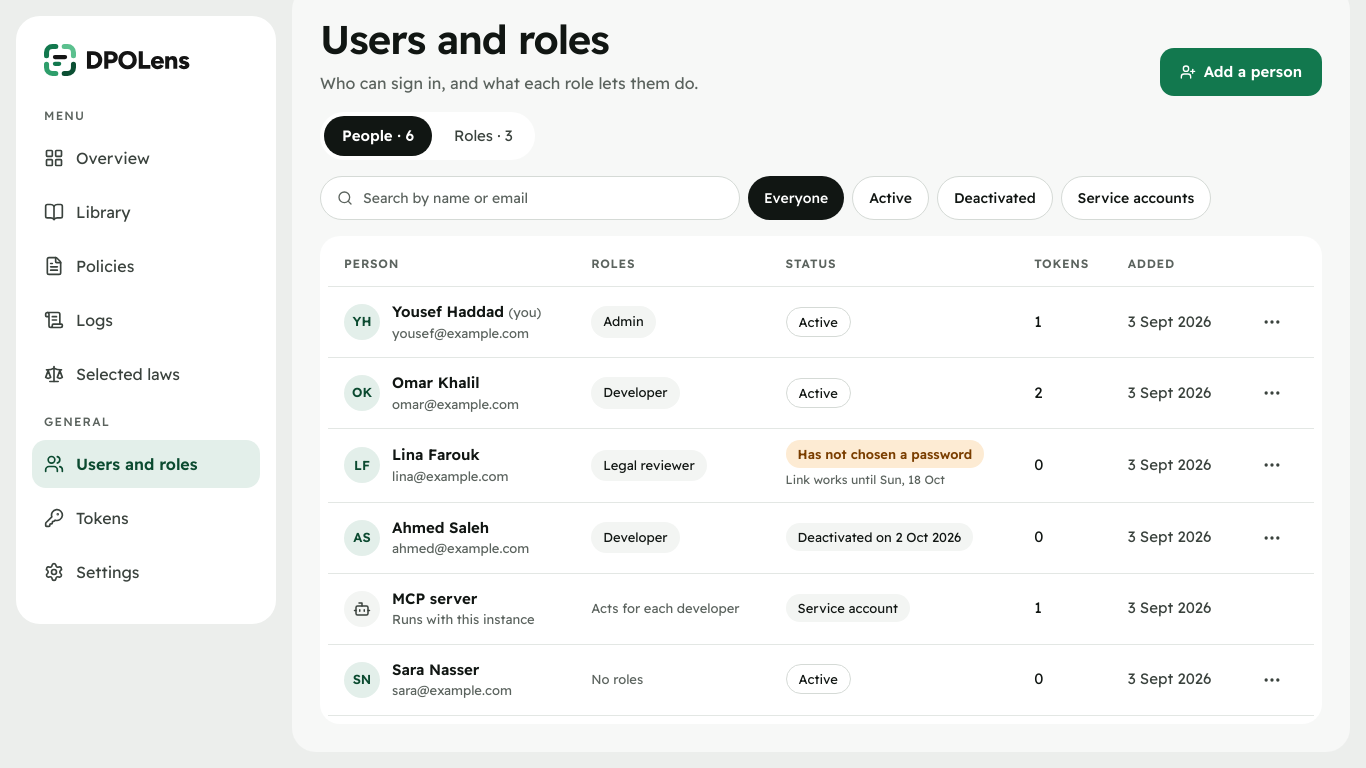
Test: people › says plainly when the last person who can manage roles would be deactivated
(page scrolled)
Click the button named "Actions for Sara Nasser": (1272, 680) 1252,660 -> 1292,700
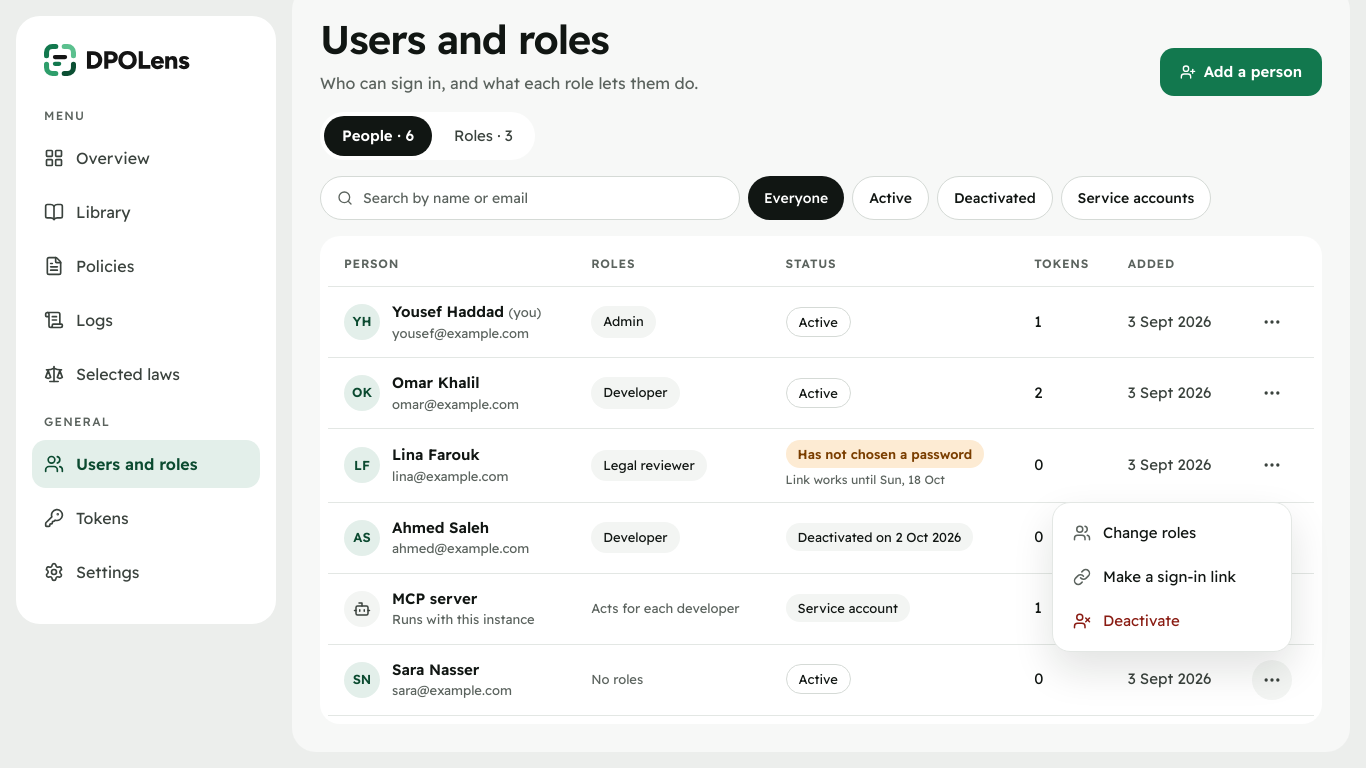
Click the menu item "Deactivate": (1126, 620) 1073,611 -> 1180,630
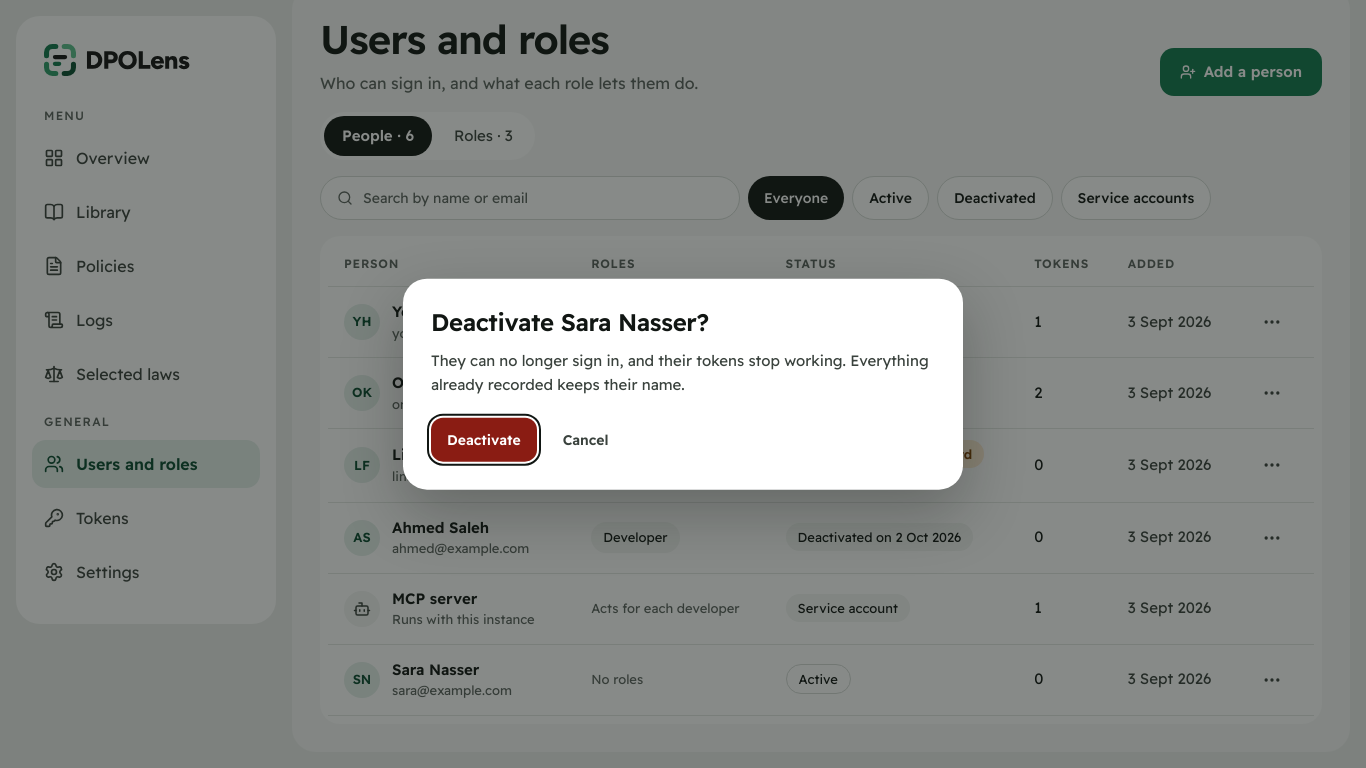
Click the button "Deactivate": (484, 439) 431,417 -> 537,461
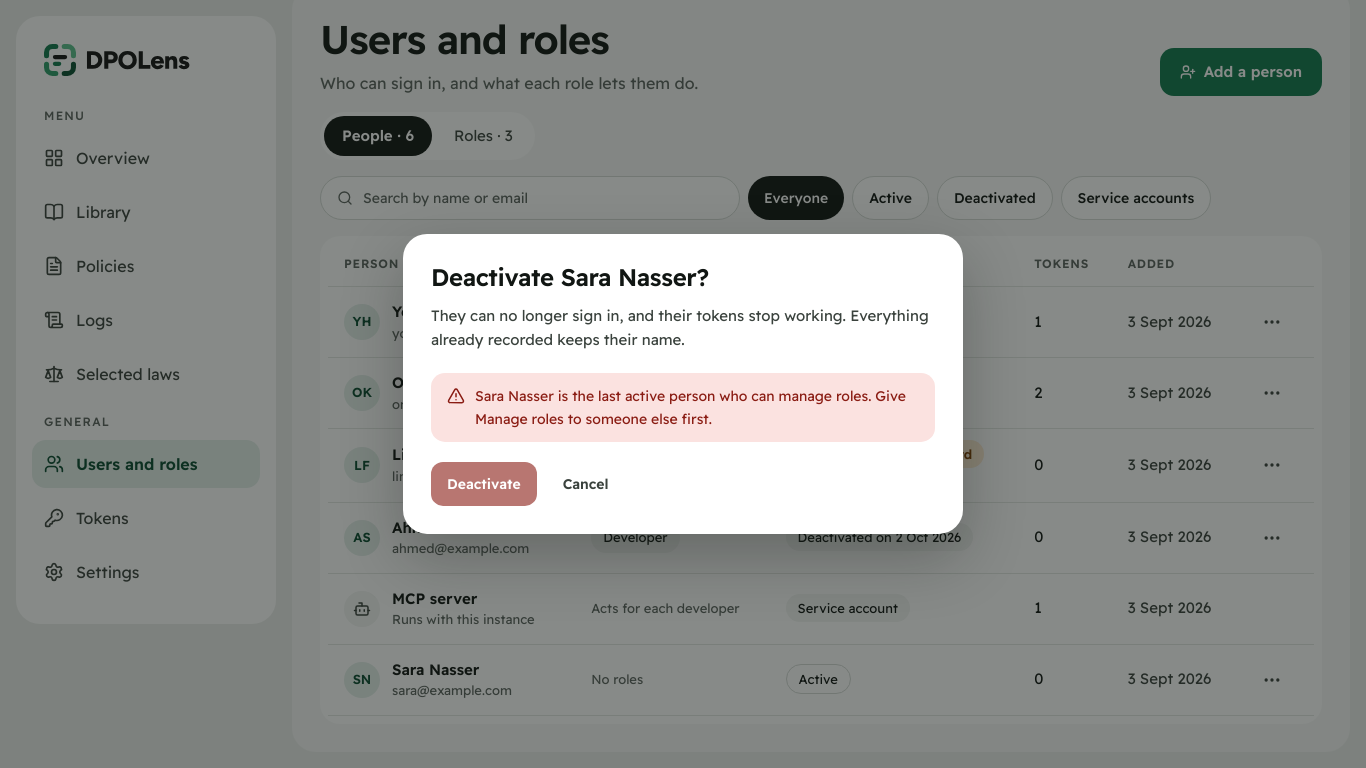
Expected: the message shows "Sara Nasser is the last active person who can manage roles.", 475,387 -> 906,427
